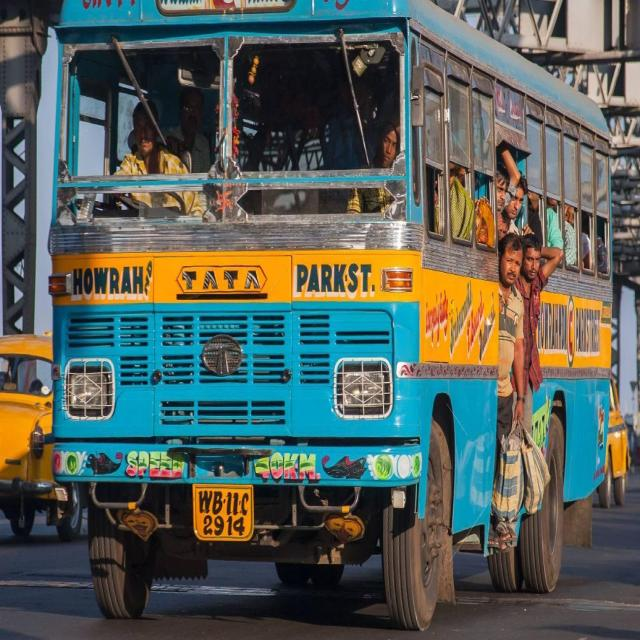bus: (49, 0, 611, 629)
